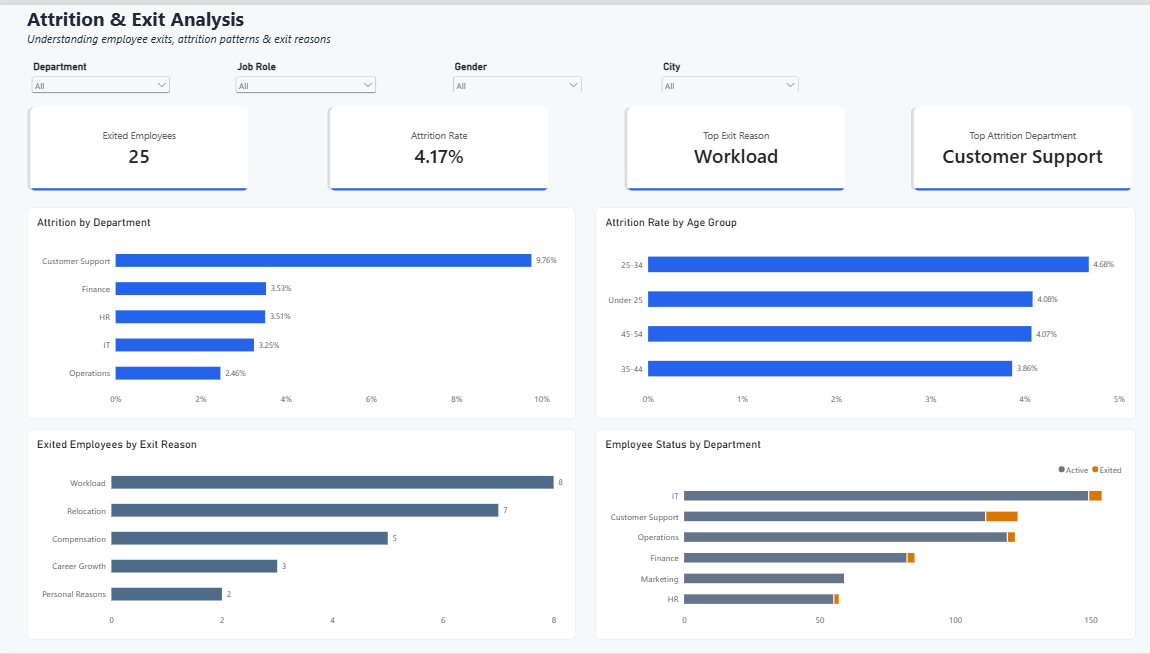

Layout of this report page (visuals, bound fields, positions):
{"tool":"powerbi","page":{"name":"Attrition & Exit Analysis","canvas":[1920,1080],"ordinal":1},"visuals":[{"type":"textbox","box":[45.3,0,644.2,76.3],"z":0},{"type":"cardVisual","fields":{"Data":["hr_analytics hr_employee_analytics.Exited Employees"]},"box":[46,164,374,150],"z":1},{"type":"cardVisual","fields":{"Data":["hr_analytics hr_employee_analytics.Attrition Rate"]},"box":[546,166,374,150],"z":2},{"type":"cardVisual","fields":{"Data":["hr_analytics hr_employee_analytics.Top Exit Reason","hr_analytics hr_employee_analytics.Top Exit Reason"]},"box":[1040,166,374,150],"z":3},{"type":"cardVisual","fields":{"Data":["hr_analytics hr_employee_analytics.Top Attrition Department"]},"box":[1518,164,374,150],"z":4},{"type":"clusteredBarChart","title":"Attrition by Department","fields":{"Category":["hr_analytics hr_employee_analytics.department"],"Y":["hr_analytics hr_employee_analytics.Attrition Rate"]},"box":[46,338,914,352],"z":5},{"type":"barChart","title":"Exited Employees by Exit Reason","fields":{"Category":["hr_analytics hr_employee_analytics.exit_reason"],"Y":["hr_analytics hr_employee_analytics.Exited Employees"]},"box":[46,708,914,350],"z":6},{"type":"slicer","fields":{"Values":["hr_analytics hr_employee_analytics.department"]},"box":[48,92,240,56],"z":7},{"type":"slicer","fields":{"Values":["hr_analytics hr_employee_analytics.job_role"]},"box":[388,92,244,58],"z":8},{"type":"slicer","fields":{"Values":["hr_analytics hr_employee_analytics.gender"]},"box":[750,92,224,52],"z":9},{"type":"slicer","fields":{"Values":["hr_analytics hr_employee_analytics.city"]},"box":[1098,92,238,52],"z":10},{"type":"clusteredBarChart","title":"Attrition Rate by Age Group","fields":{"Category":["hr_analytics hr_employee_analytics.age_group"],"Y":["hr_analytics hr_employee_analytics.Attrition Rate"]},"box":[992,338,900,352],"z":11},{"type":"barChart","title":"Employee Status by Department","fields":{"Category":["hr_analytics hr_employee_analytics.department"],"Series":["hr_analytics hr_employee_analytics.status"],"Y":["hr_analytics hr_employee_analytics.Total Employees"]},"box":[992,708,900,350],"z":12}]}

Visuals, with their boxes in screenshot pixels (x1, y1, x2, y2), scaled from the page's 1920x1080 canvas onto the 1150x654 screenshot:
textbox: x1=27, y1=0, x2=413, y2=46
cardVisual - hr_analytics hr_employee_analytics.Exited Employees: x1=28, y1=99, x2=252, y2=190
cardVisual - hr_analytics hr_employee_analytics.Attrition Rate: x1=327, y1=101, x2=551, y2=191
cardVisual - hr_analytics hr_employee_analytics.Top Exit Reason x hr_analytics hr_employee_analytics.Top Exit Reason: x1=623, y1=101, x2=847, y2=191
cardVisual - hr_analytics hr_employee_analytics.Top Attrition Department: x1=909, y1=99, x2=1133, y2=190
"Attrition by Department" clusteredBarChart: x1=28, y1=205, x2=575, y2=418
"Exited Employees by Exit Reason" barChart: x1=28, y1=429, x2=575, y2=641
slicer - hr_analytics hr_employee_analytics.department: x1=29, y1=56, x2=172, y2=90
slicer - hr_analytics hr_employee_analytics.job_role: x1=232, y1=56, x2=379, y2=91
slicer - hr_analytics hr_employee_analytics.gender: x1=449, y1=56, x2=583, y2=87
slicer - hr_analytics hr_employee_analytics.city: x1=658, y1=56, x2=800, y2=87
"Attrition Rate by Age Group" clusteredBarChart: x1=594, y1=205, x2=1133, y2=418
"Employee Status by Department" barChart: x1=594, y1=429, x2=1133, y2=641
